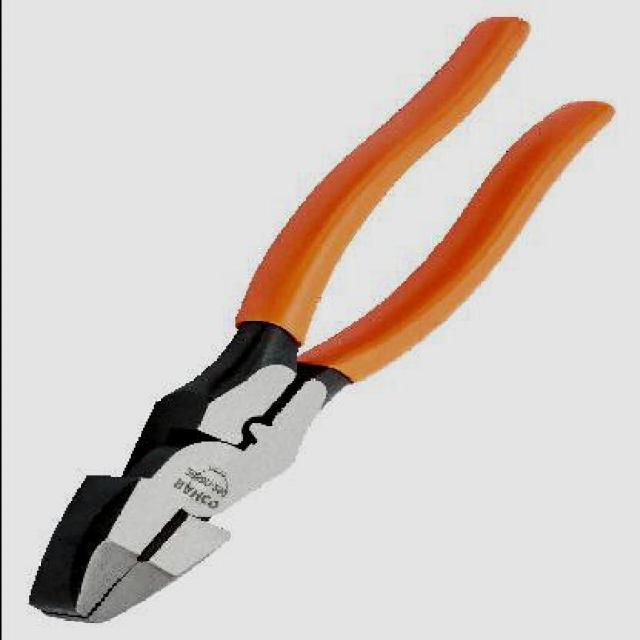pliers: (24, 13, 624, 624)
